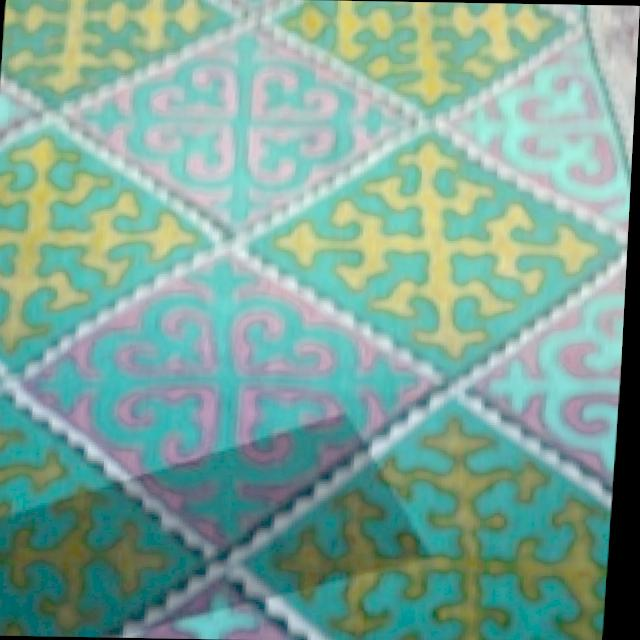Unity: (26, 253, 442, 543), (67, 33, 405, 224), (449, 34, 631, 229), (473, 270, 626, 495)
